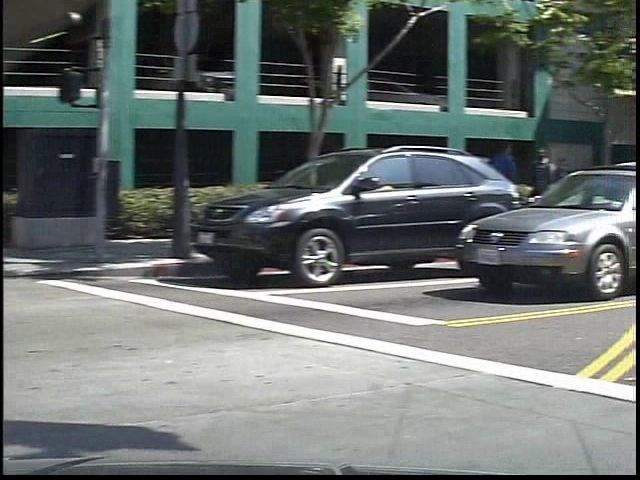person: (504, 141, 542, 241)
